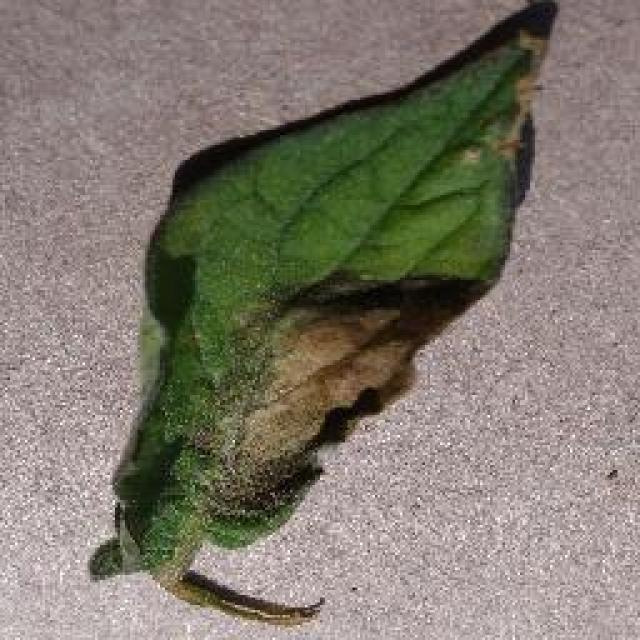Tomato___Late_blight: (88, 0, 560, 625)
